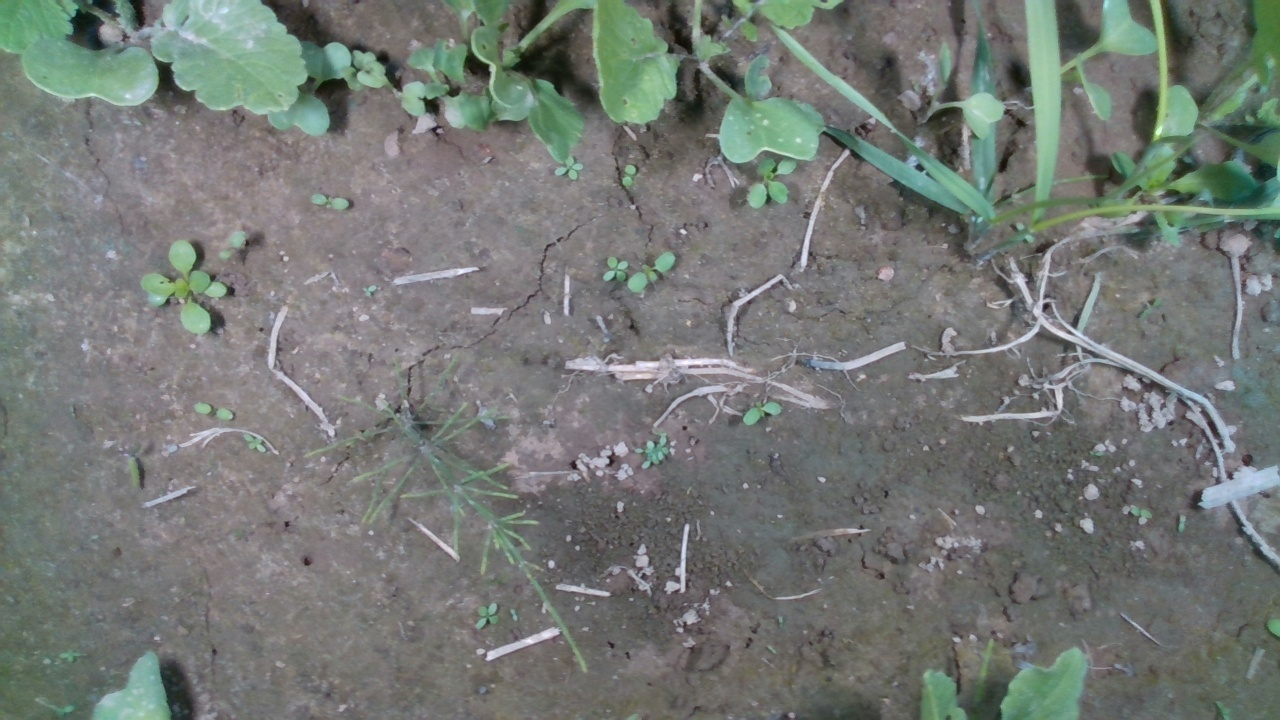weed: (137, 238, 232, 335), (742, 398, 784, 426), (472, 600, 499, 630), (193, 402, 235, 421), (602, 255, 629, 284), (310, 193, 351, 210), (241, 432, 267, 454), (1129, 504, 1155, 519), (621, 162, 636, 187), (1177, 513, 1186, 533), (510, 608, 518, 622)
